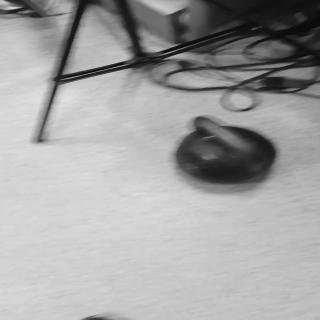girya: (180, 116, 276, 184)
